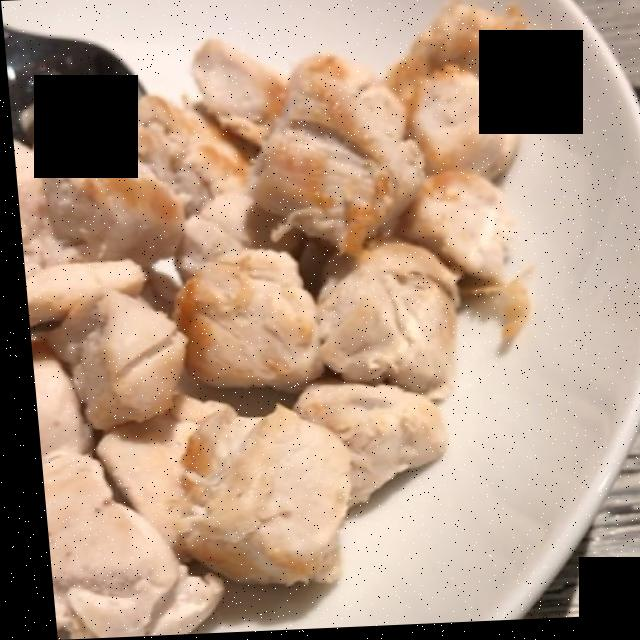chicken-breast: (23, 4, 514, 605)
